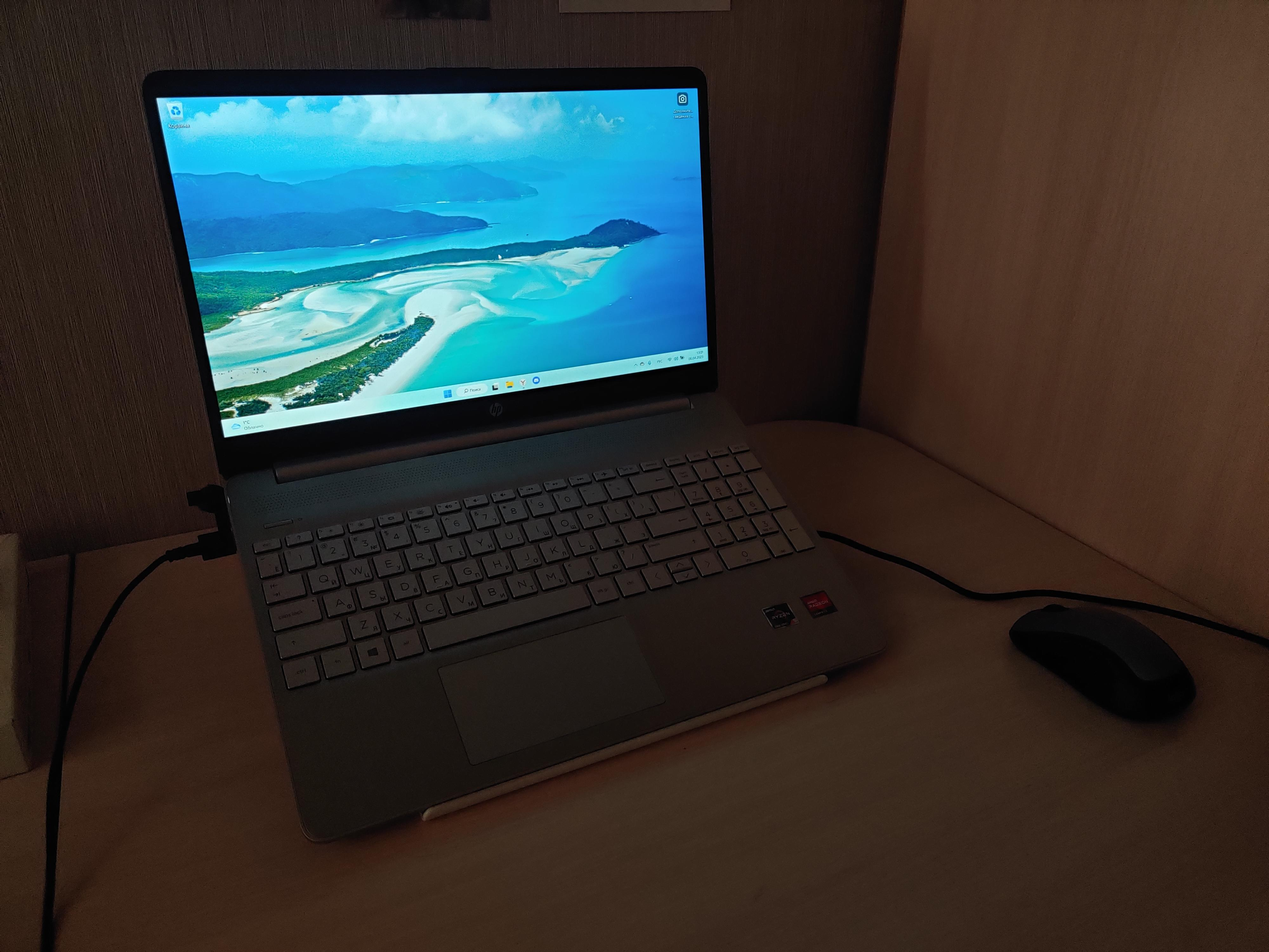monitor: (135, 52, 719, 470)
